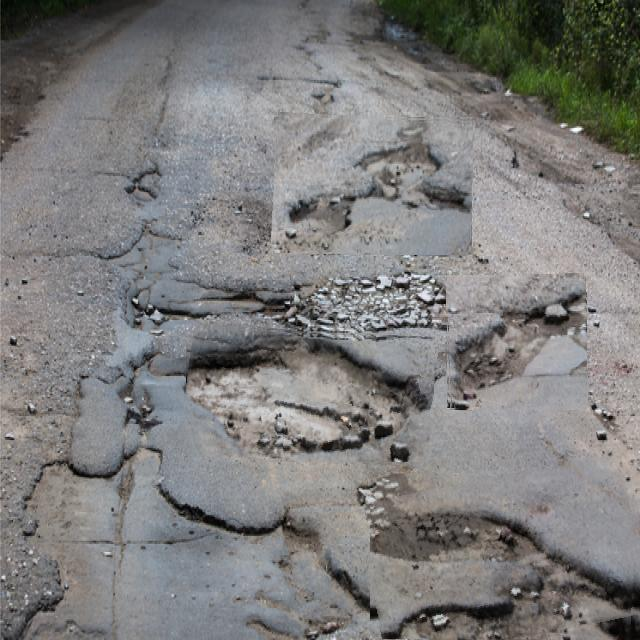Pothole: (370, 462, 640, 640), (184, 326, 435, 462), (273, 115, 473, 255), (446, 274, 587, 410)
